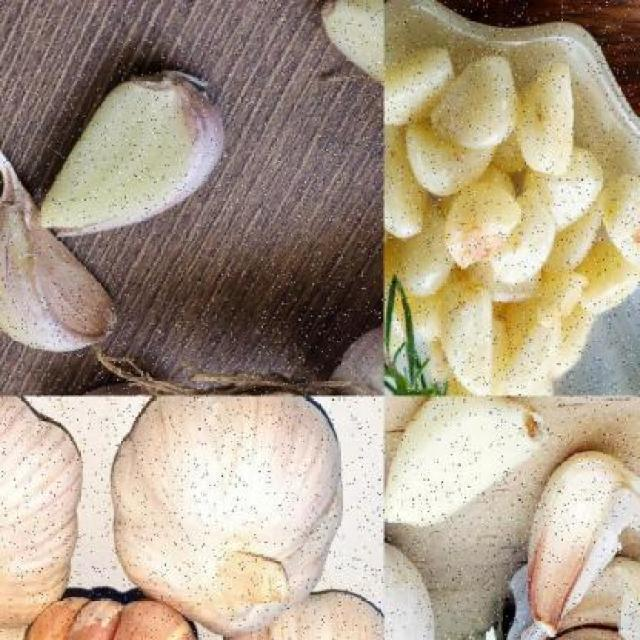garlic: (383, 51, 640, 396), (105, 396, 346, 639), (40, 65, 232, 232), (518, 444, 640, 633), (384, 396, 548, 526), (0, 396, 85, 633), (0, 199, 118, 362), (474, 558, 638, 640), (427, 55, 522, 152), (436, 278, 508, 392), (514, 61, 582, 176), (487, 186, 559, 292), (318, 0, 384, 114), (445, 174, 525, 268), (323, 312, 383, 396)
